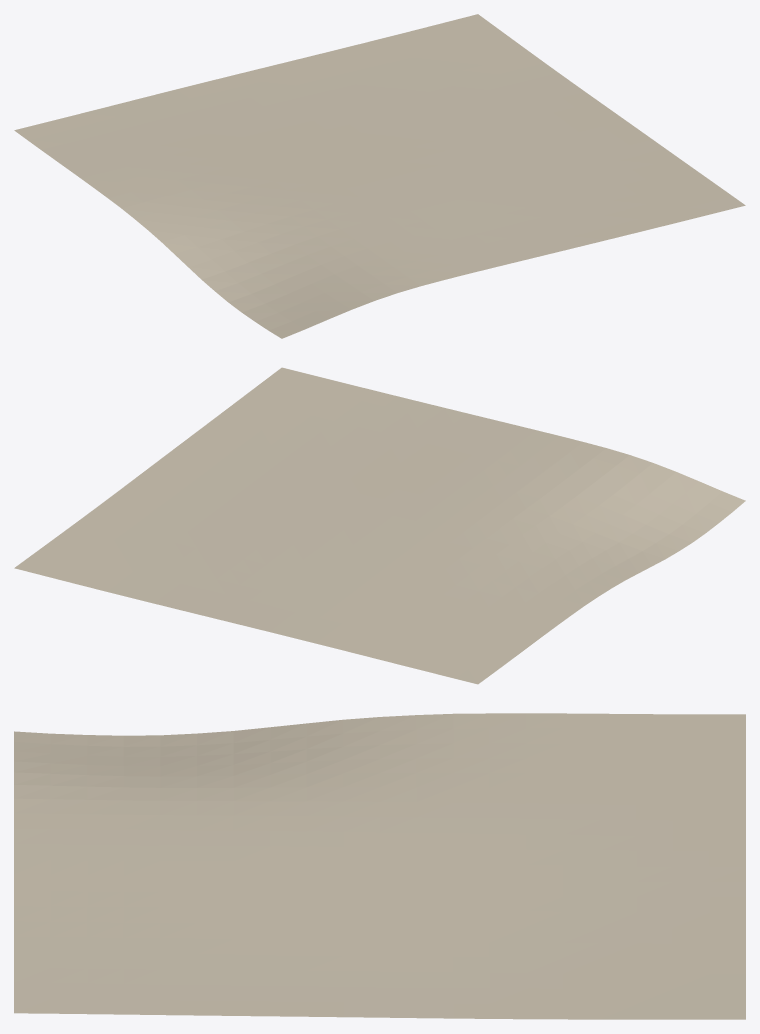
The model's file is bolak_-37_-11.glb.
3 views of the same model, one above another, from view 1: azimuth 30°, elevation 25°; view 2: azimuth 150°, elevation 25°; view 3: azimuth 270°, elevation 25° (orthographic). The views are drawn at different scales.
Visible parts, largest first — view 1: Yer_Tuproq-col; view 2: Yer_Tuproq-col; view 3: Yer_Tuproq-col.
Boxes of the visible parts, box(x1,y1,x2,y2) form: Yer_Tuproq-col: box(14, 14, 745, 338); Yer_Tuproq-col: box(14, 367, 745, 684); Yer_Tuproq-col: box(14, 713, 745, 1019).
Bounding box in the file's own units: 400 × 19.14 × 400.
